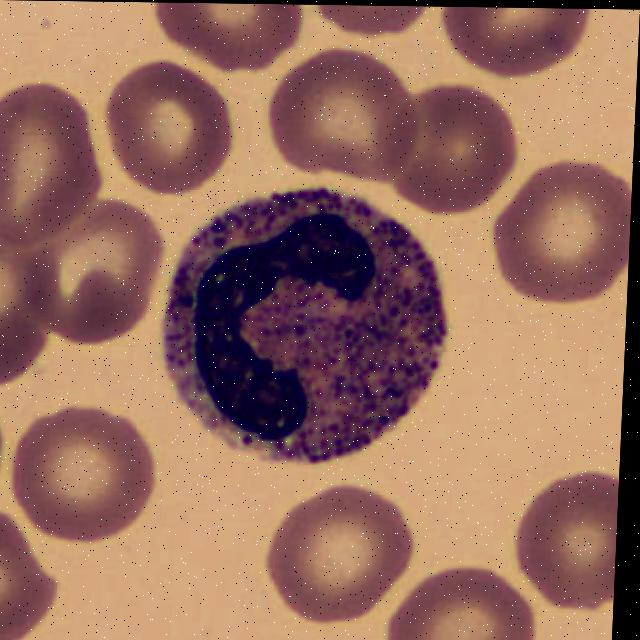neutrophil: (152, 189, 451, 470)
rbc: (489, 135, 634, 324), (6, 402, 182, 553), (265, 47, 424, 195), (371, 84, 534, 215), (0, 86, 126, 252), (97, 64, 243, 207), (29, 202, 172, 345), (265, 498, 409, 634), (500, 470, 619, 633), (138, 2, 316, 77), (431, 7, 597, 83), (376, 563, 535, 640), (0, 238, 53, 388), (0, 521, 66, 640), (311, 5, 425, 42), (0, 383, 16, 516)
